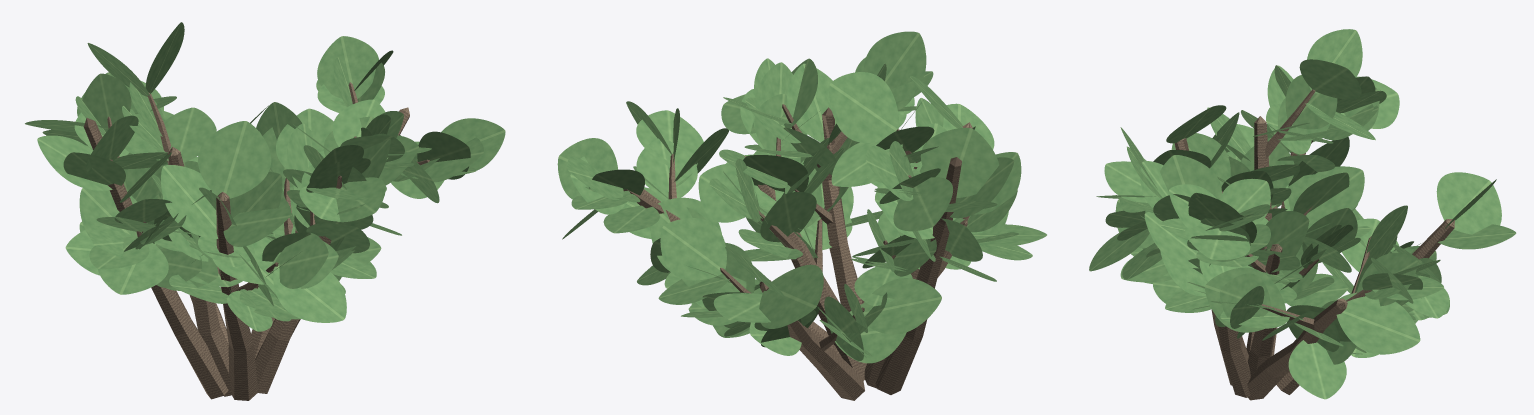
The picture shows the model from 3 angles, left to right: view 1: azimuth 30°, elevation 25°; view 2: azimuth 150°, elevation 25°; view 3: azimuth 270°, elevation 25°; orthographic projection. The views are drawn at different scales.
Visible parts, largest first — view 1: 덤불_02; view 2: 덤불_02; view 3: 덤불_02.
Part boxes in pixels (<box>): 덤불_02: <box>25,22,505,400</box>; 덤불_02: <box>557,31,1046,400</box>; 덤불_02: <box>1089,29,1516,400</box>.
Size of the model in its own units: 2008 by 1596 by 1899.
2 materials, 2 textured.
